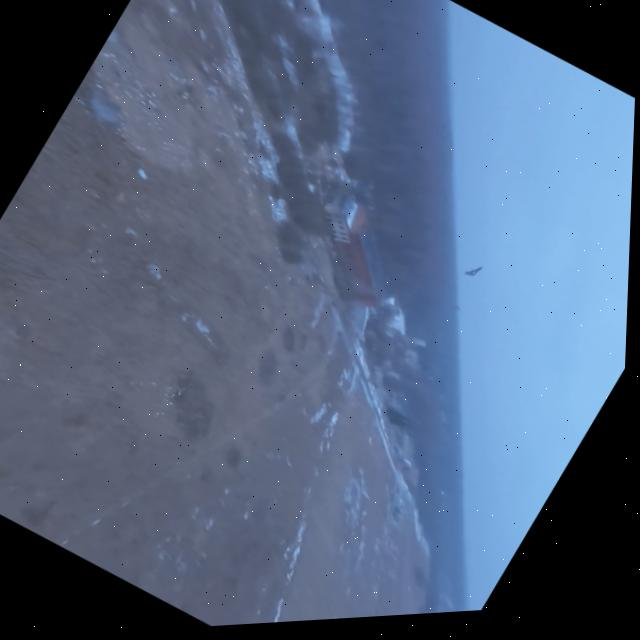planedrone: (457, 254, 489, 285)
